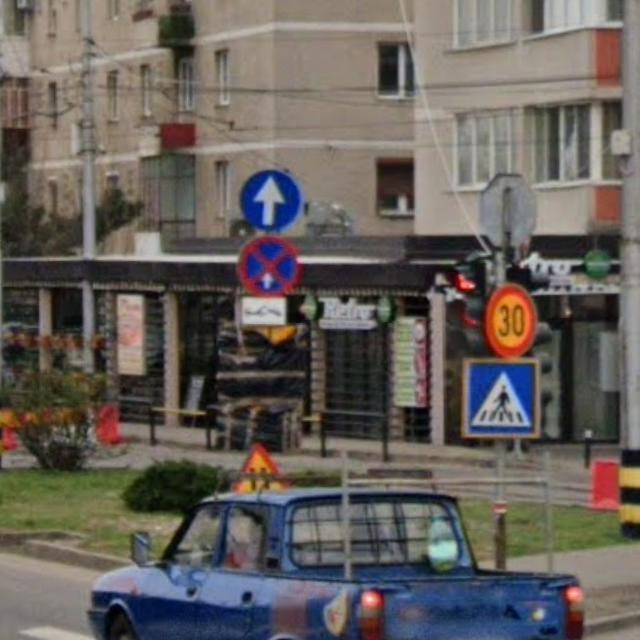forb_speed_over_30: (484, 287, 536, 358)
forb_waiting: (240, 236, 299, 297)
info_crosswalk: (462, 358, 542, 440)
